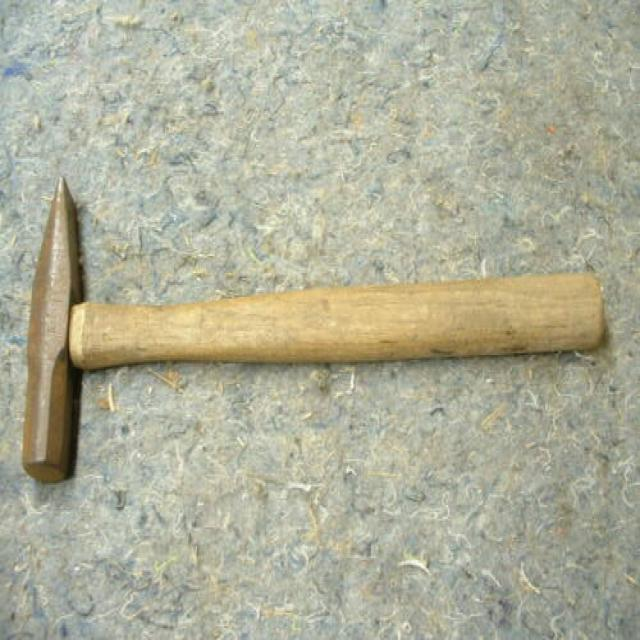hammer: (19, 169, 608, 490)
